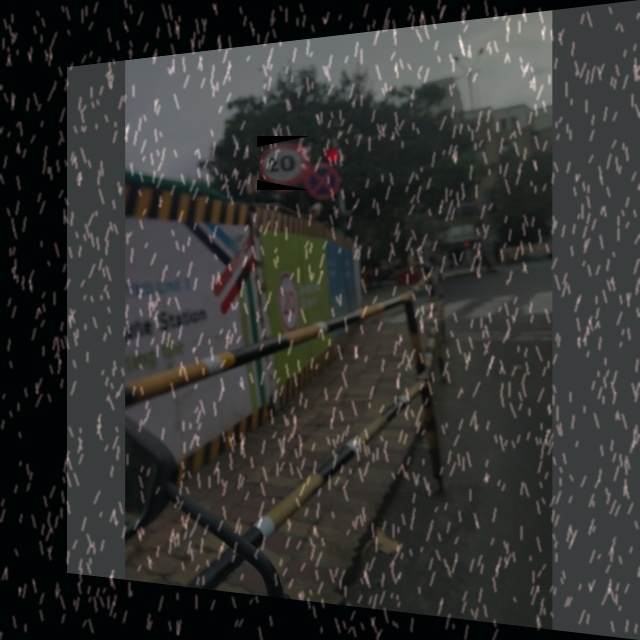Speed_Limit_20: (257, 136, 310, 190)
